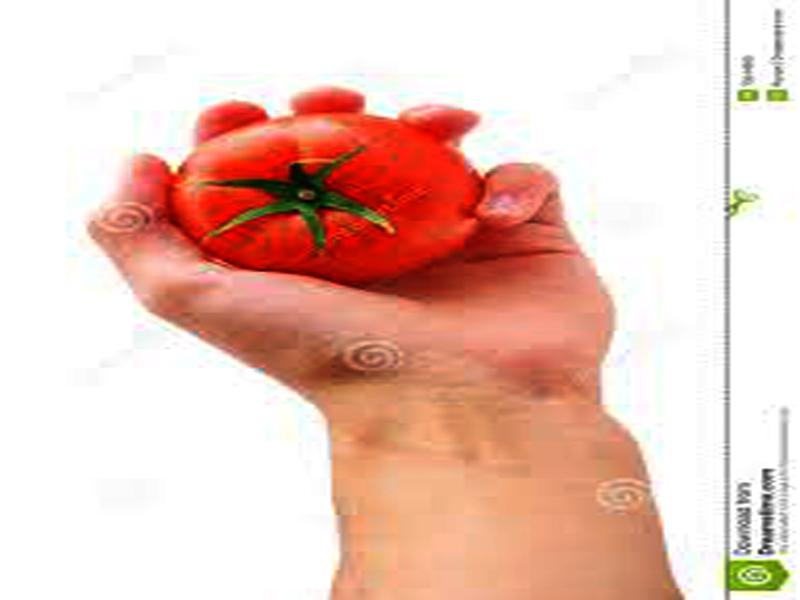Tomato: (174, 113, 485, 278)
